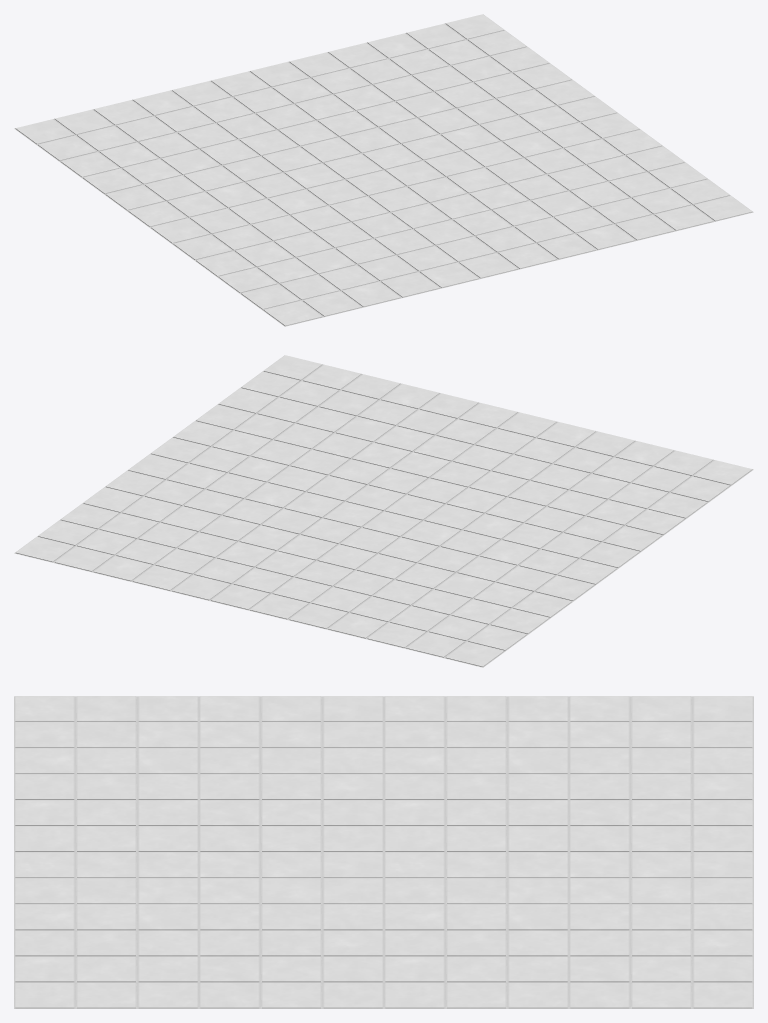
Rendered from TileRoof.fbx.
3 renders of one model, top to bottom at view 1: azimuth 30°, elevation 25°; view 2: azimuth 150°, elevation 25°; view 3: azimuth 270°, elevation 25°, orthographic. The views are drawn at different scales.
Visible parts, largest first — view 1: Plane.002; view 2: Plane.002; view 3: Plane.002.
Part boxes in pixels (bbox=[...]): Plane.002: bbox=[14, 14, 753, 326]; Plane.002: bbox=[14, 355, 753, 667]; Plane.002: bbox=[14, 696, 753, 1008].
Bounding box in the file's own units: 200 × 0.2452 × 200.
1 material, 1 textured.
